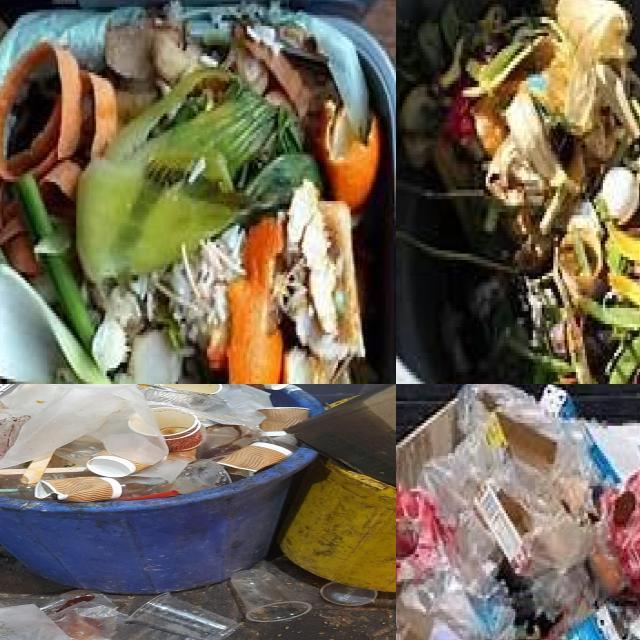Disposable: (131, 593, 240, 640), (116, 459, 231, 500), (231, 570, 311, 622), (54, 436, 104, 466), (320, 582, 376, 607)
Garbage: (0, 20, 389, 384), (396, 0, 640, 384), (396, 384, 640, 640), (0, 384, 306, 504), (0, 590, 240, 640), (231, 570, 311, 622), (320, 582, 376, 605)
Metal: (137, 384, 225, 412)
Plastic_Bag: (396, 384, 596, 640), (0, 384, 169, 469), (42, 590, 208, 640), (196, 384, 273, 427), (196, 425, 261, 459), (119, 458, 193, 485)
